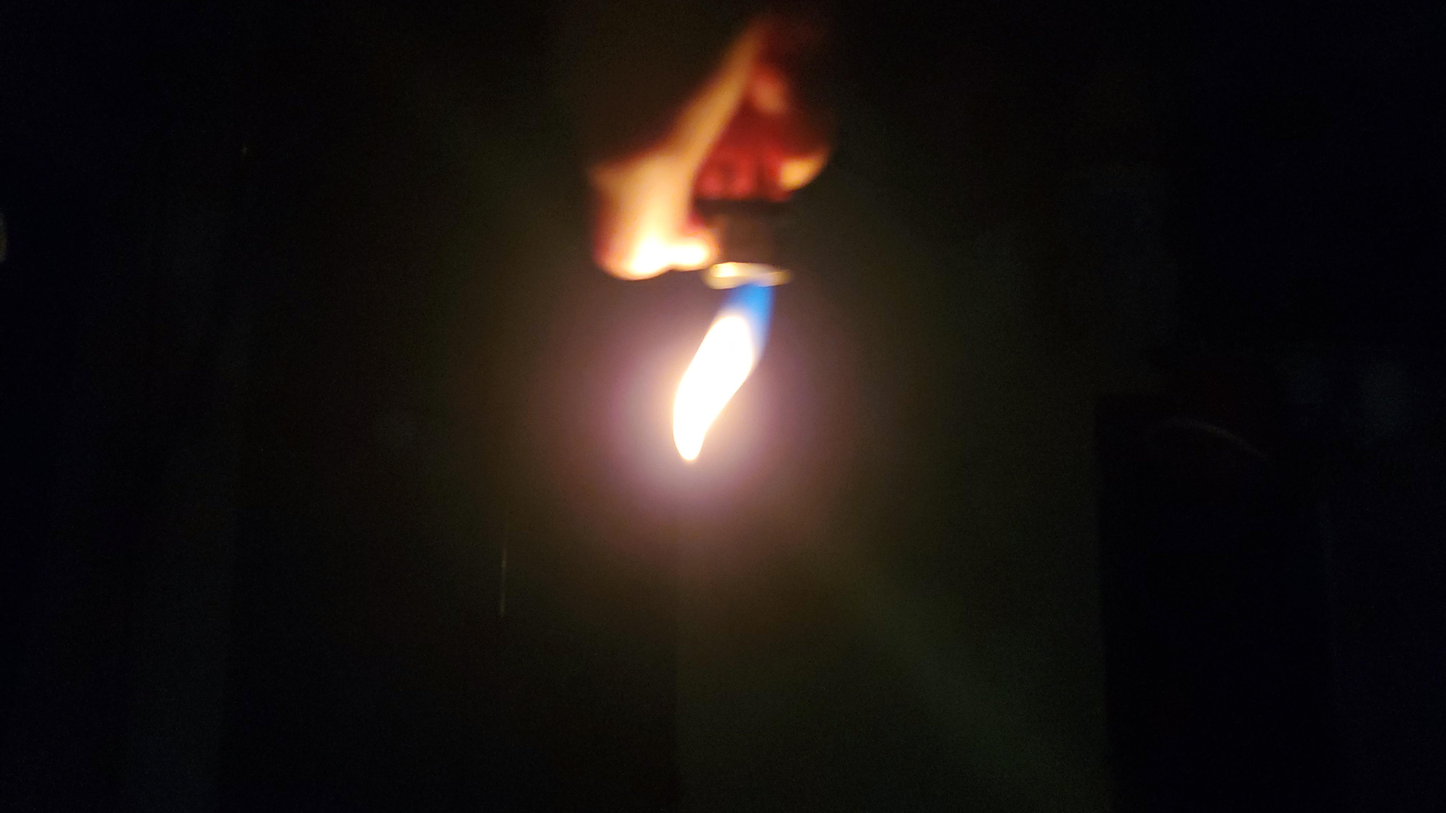fire: (693, 344, 820, 549)
